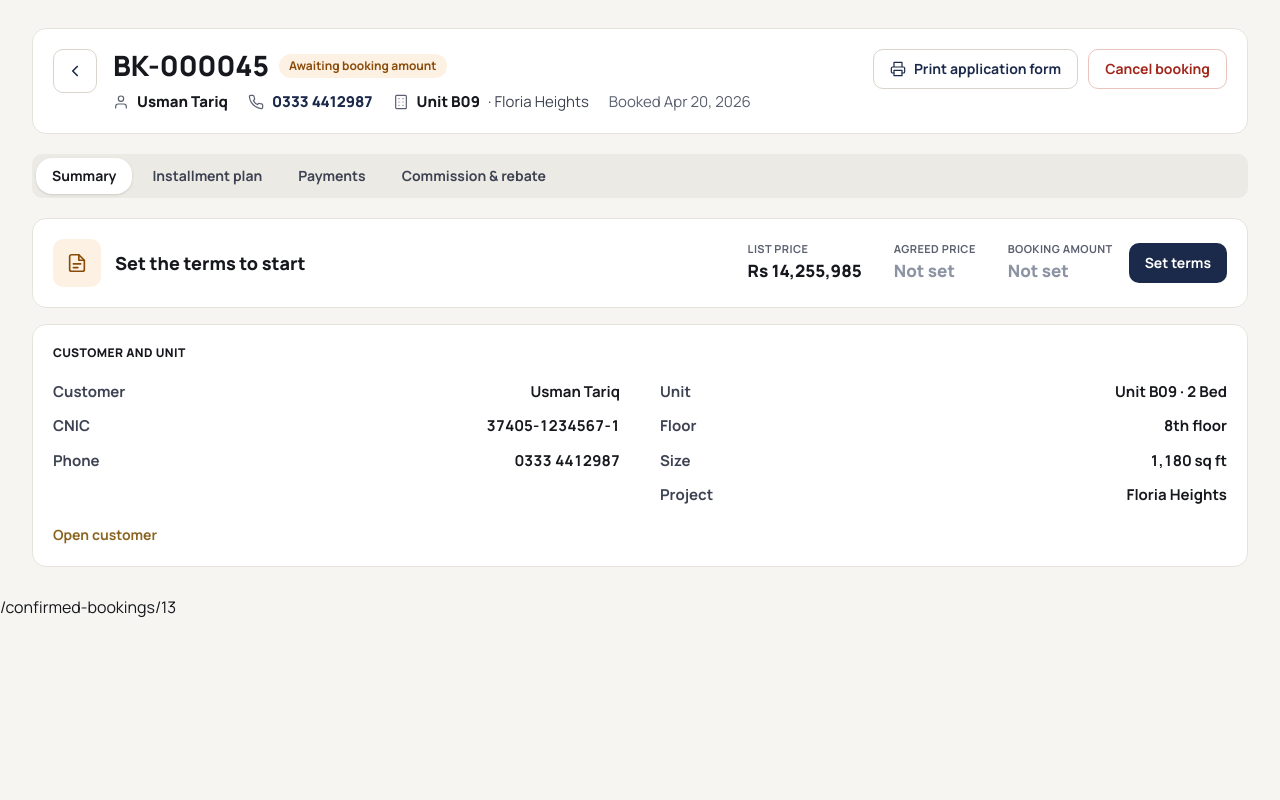
Scenario: Set terms › hides the summary strip and disables Save while the amount is too high
Click the button "Set terms" at (1178, 263), box x1=1129 y1=243 x2=1227 y2=283
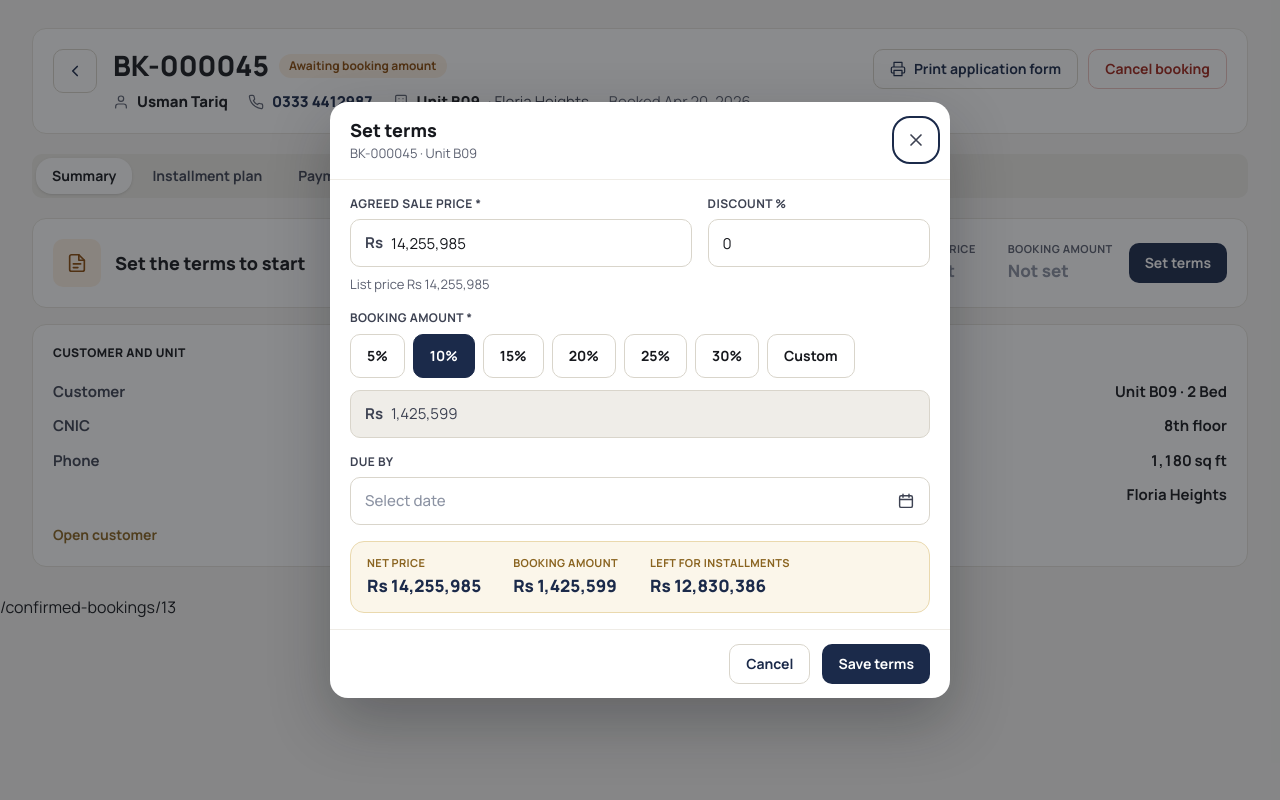
Click the radio button labelled "Custom" at (811, 356), box x1=767 y1=334 x2=855 y2=378
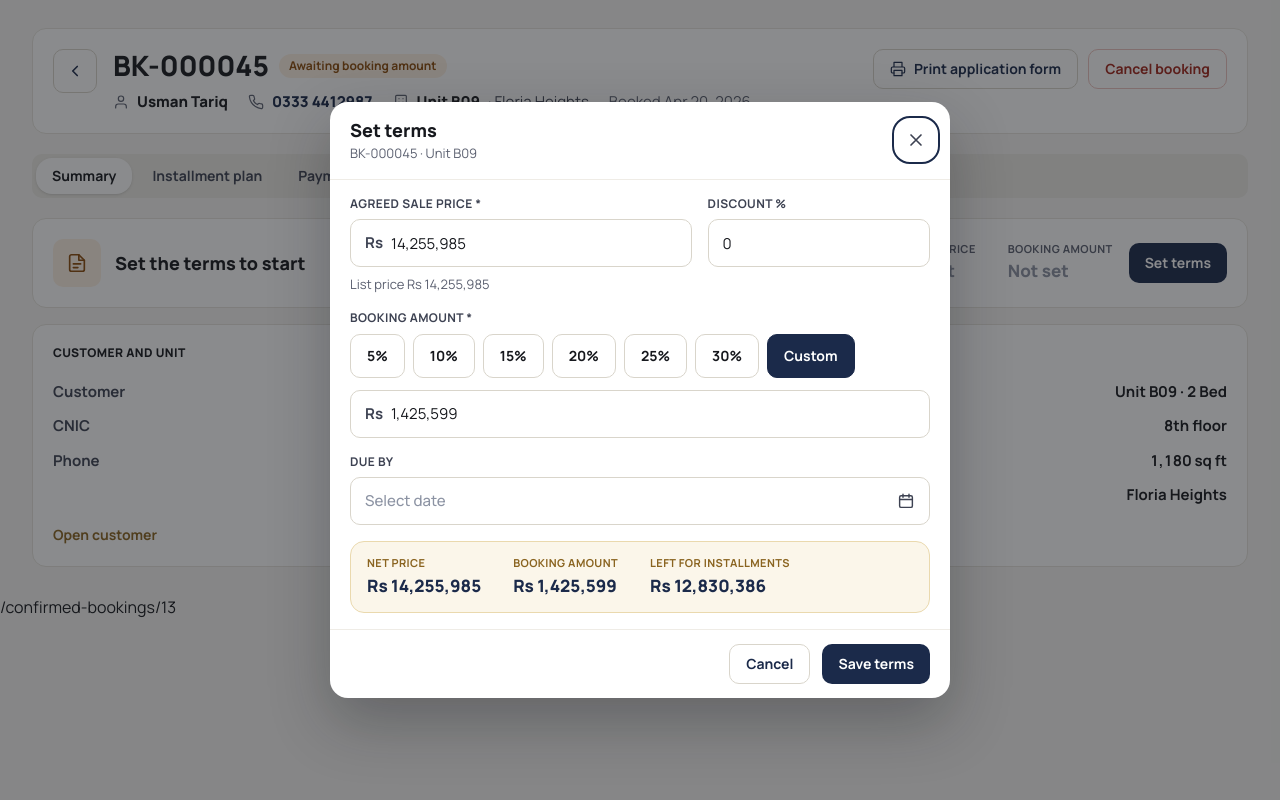
Replace the text in the field named "Booking amount in rupees" with "15000000" at (653, 414), box x1=391 y1=391 x2=915 y2=437
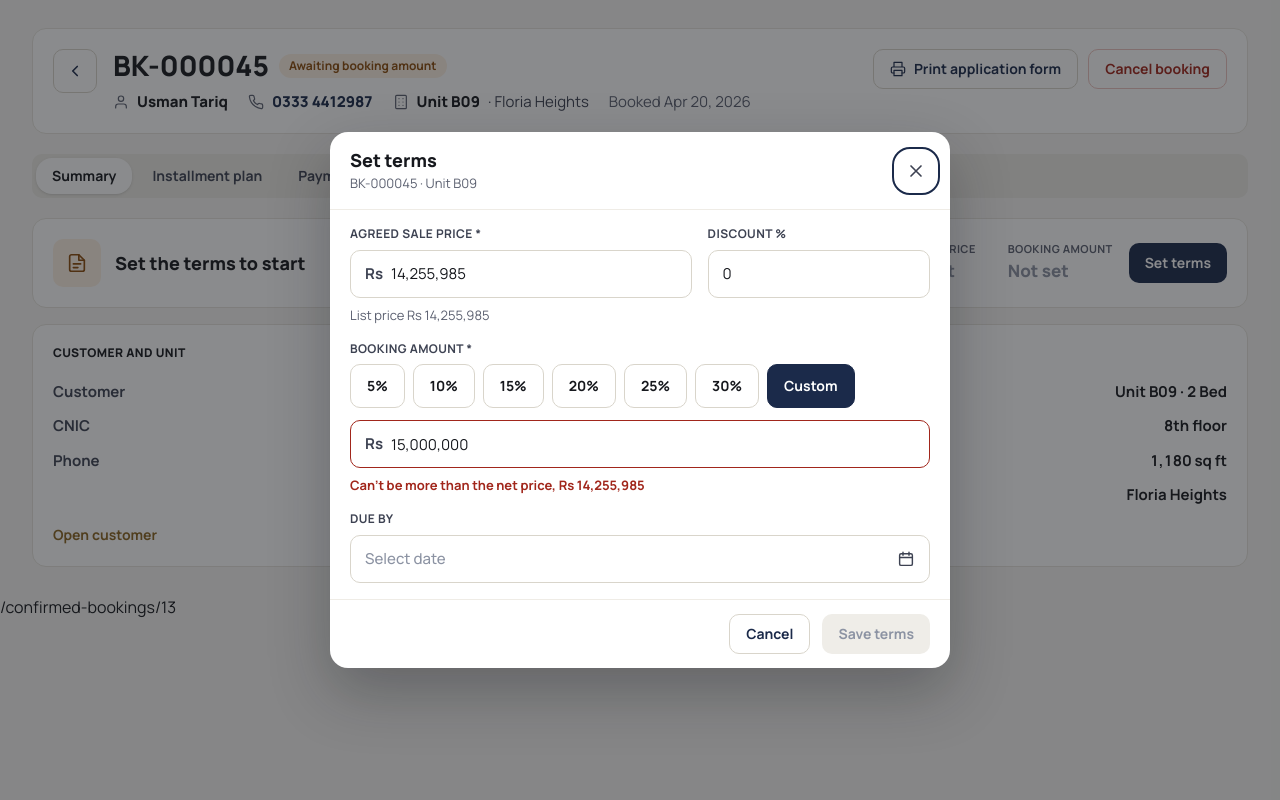
Result: the text "Can't be more than the net price, Rs 14,255,985" is shown at x1=350 y1=476 x2=645 y2=494
Result: the text "Left for installments" is gone
Result: the button "Save terms" is disabled at x1=822 y1=614 x2=930 y2=654
